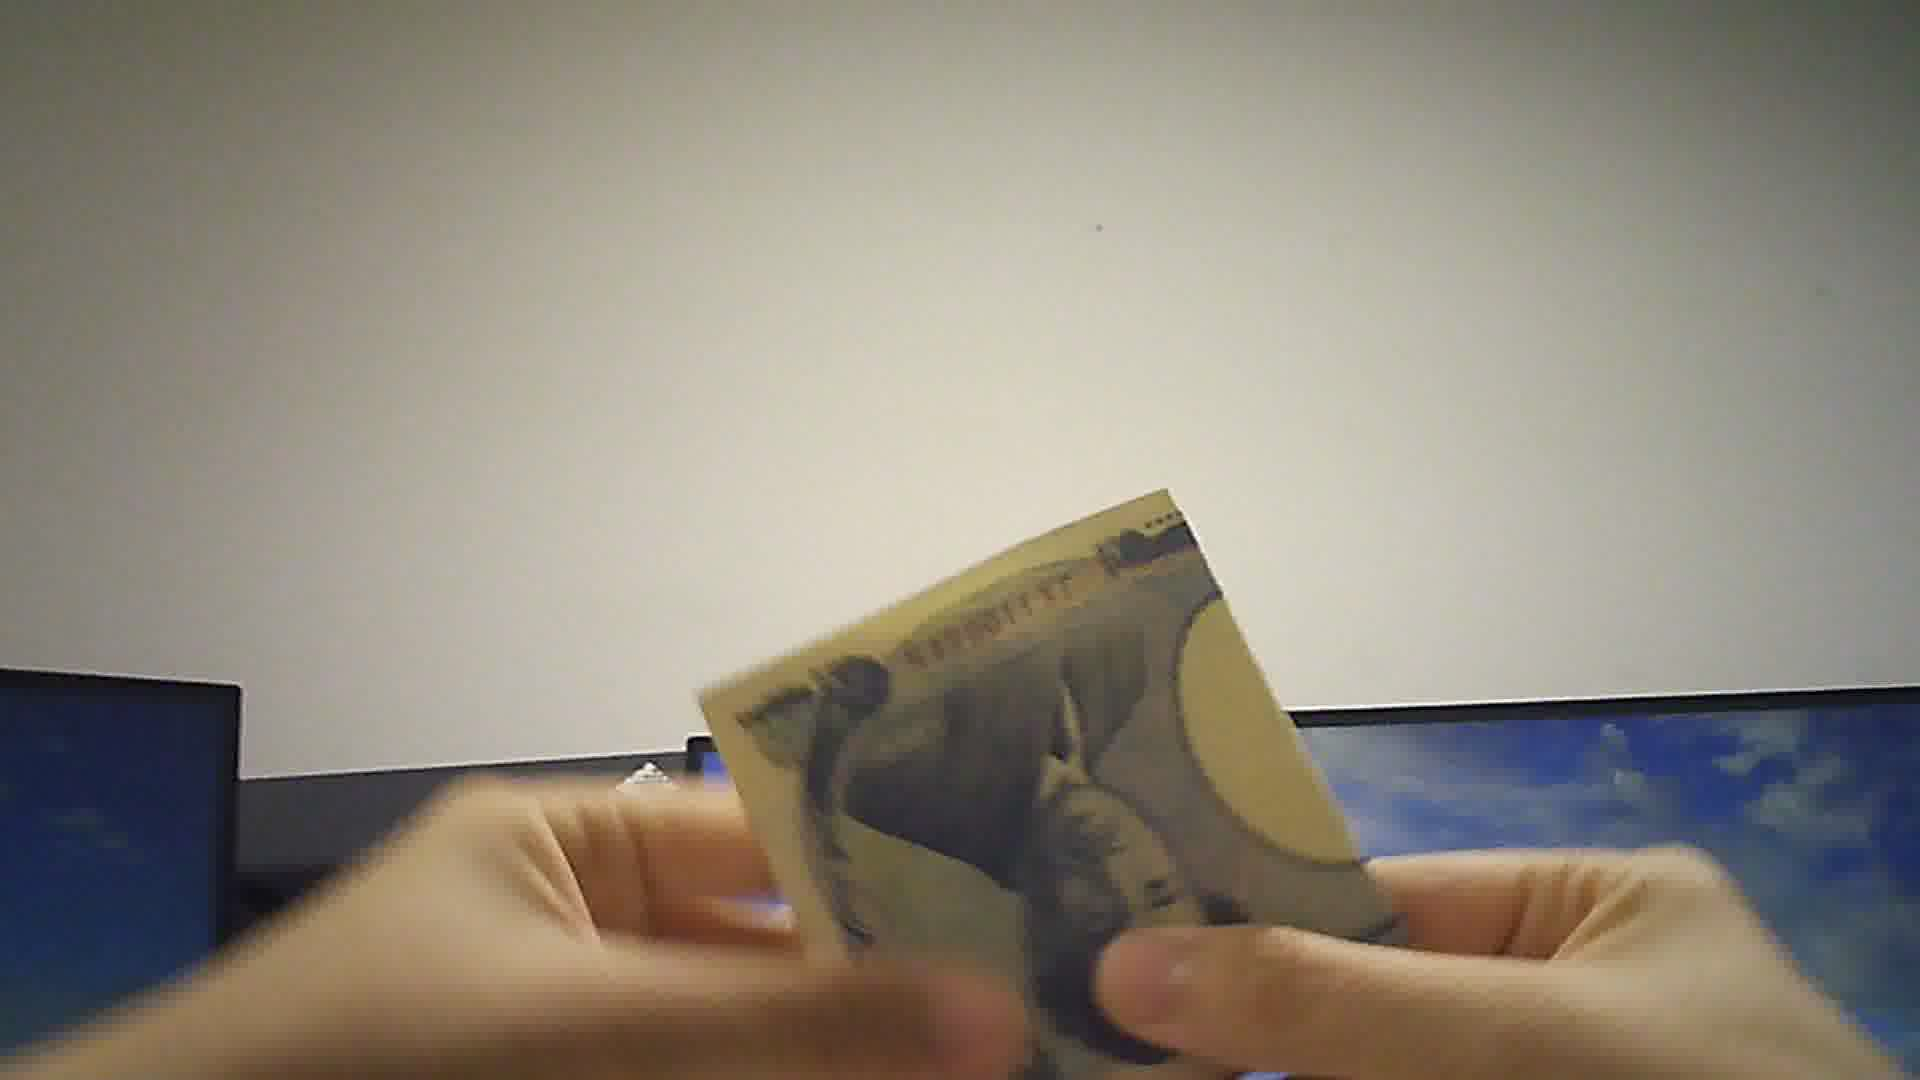1,000 Yen: (684, 481, 1429, 1079)
